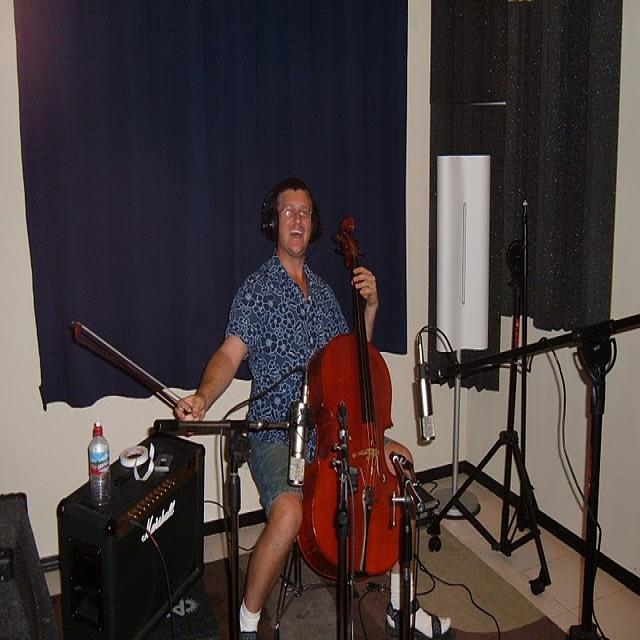cello: (300, 216, 414, 573)
